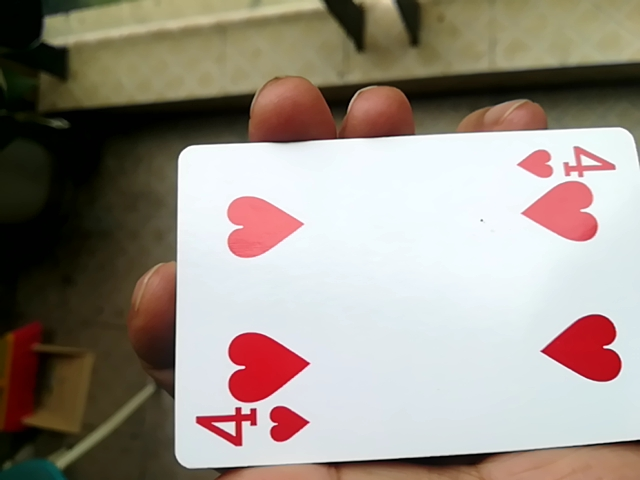hx 4: (167, 121, 638, 477)
